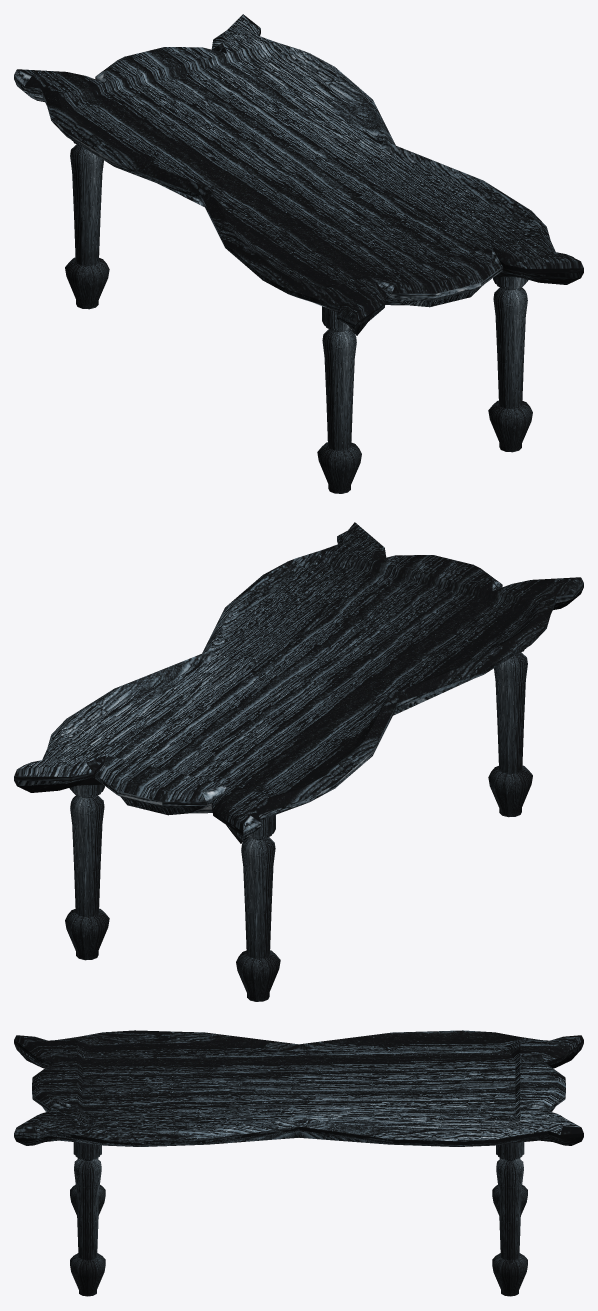
Rendered from table_model.fbx.
3 renders of one model, top to bottom at view 1: azimuth 30°, elevation 25°; view 2: azimuth 150°, elevation 25°; view 3: azimuth 270°, elevation 25°, orthographic. The views are drawn at different scales.
Visible parts, largest first — view 1: polySurface30; view 2: polySurface30; view 3: polySurface30.
Boxes of the visible parts, x1,y1,x2,y2 form: polySurface30: [14, 14, 583, 493]; polySurface30: [14, 522, 583, 1001]; polySurface30: [14, 1030, 583, 1296].
Size of the model in its own units: 0.1441 by 0.108 by 0.3165.
